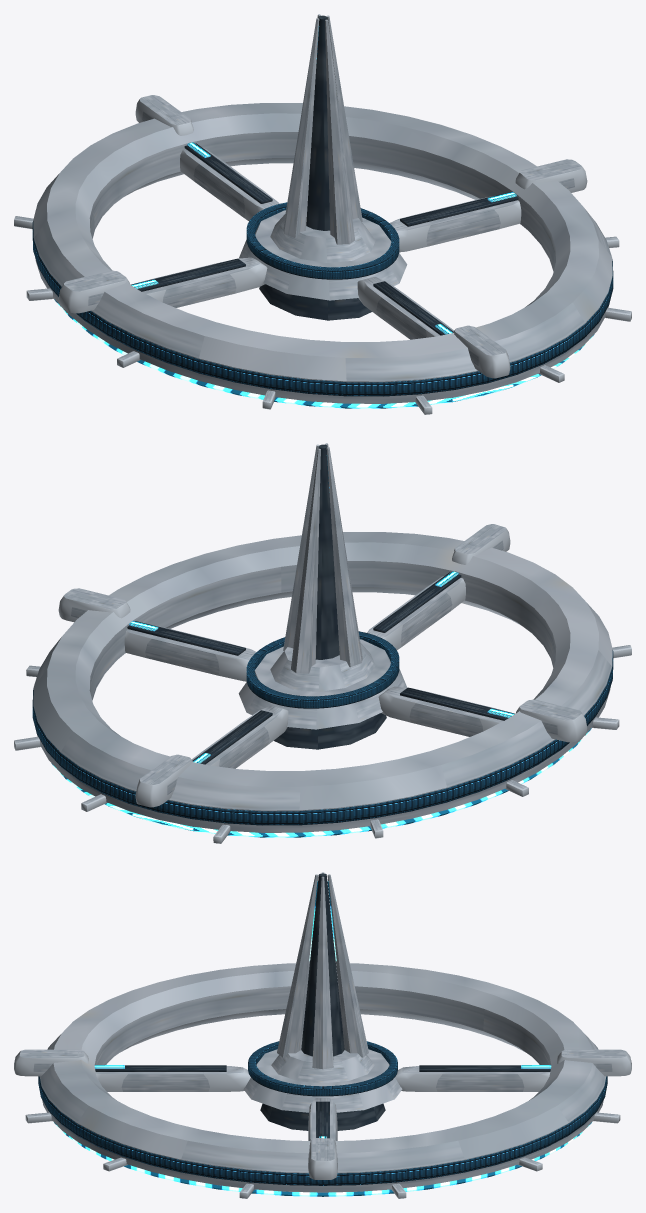
File: alliance_starbase_recreated_lod2.glb
3 views of the same model, one above another, from view 1: azimuth 30°, elevation 25°; view 2: azimuth 150°, elevation 25°; view 3: azimuth 270°, elevation 25° (orthographic). The views are drawn at different scales.
Parts seen in each view (by area): view 1: alliance_starbase_far_source; view 2: alliance_starbase_far_source; view 3: alliance_starbase_far_source.
Boxes of the visible parts, x1,y1,x2,y2 form: alliance_starbase_far_source: (14, 14, 631, 414); alliance_starbase_far_source: (14, 443, 631, 843); alliance_starbase_far_source: (14, 872, 631, 1198).
Bounding box in the file's own units: 28.44 × 14.33 × 34.07.
1 material, 1 textured.
